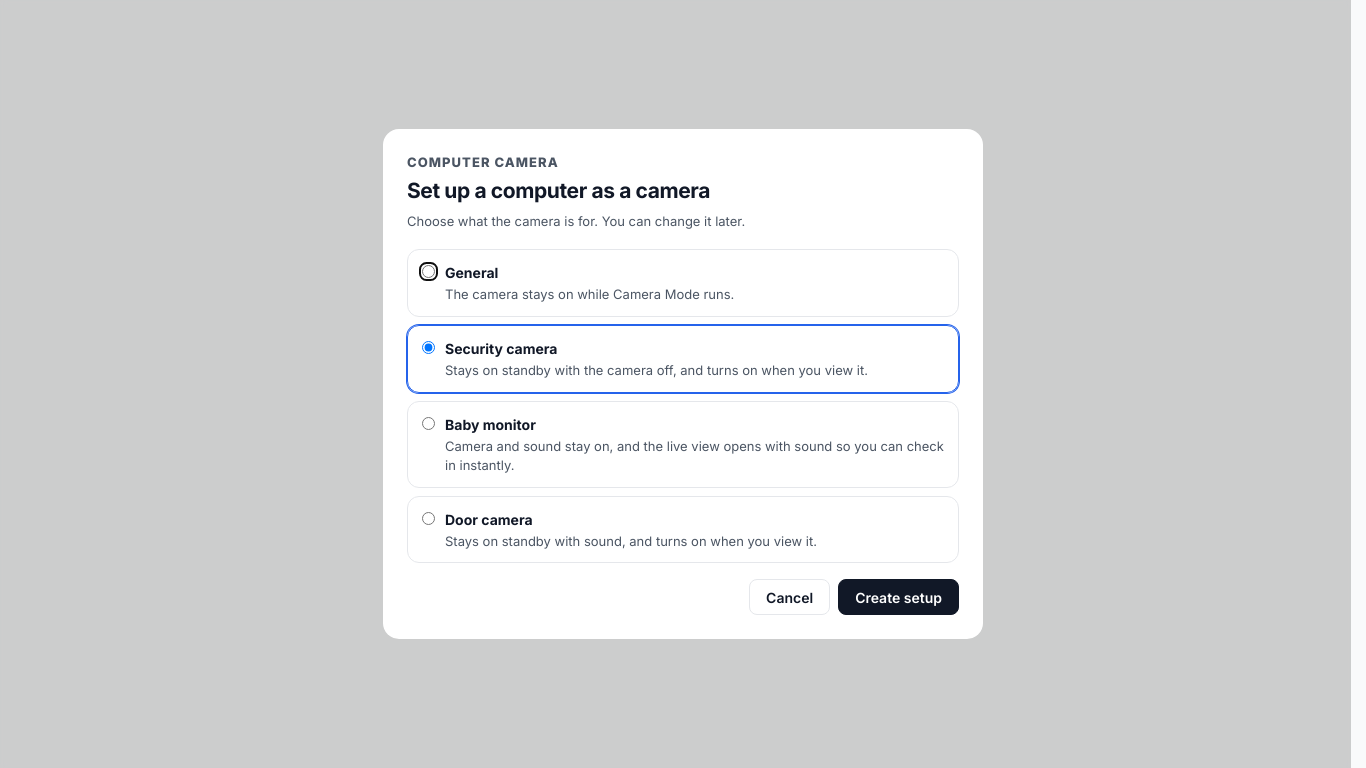
ComputerCameraSetupDialog › says plainly when no Windows build is published
What coordinates should you click on to do the following:
click the button "Create setup"
I would click on:
 (899, 597)
Its box is [838,579,959,615].
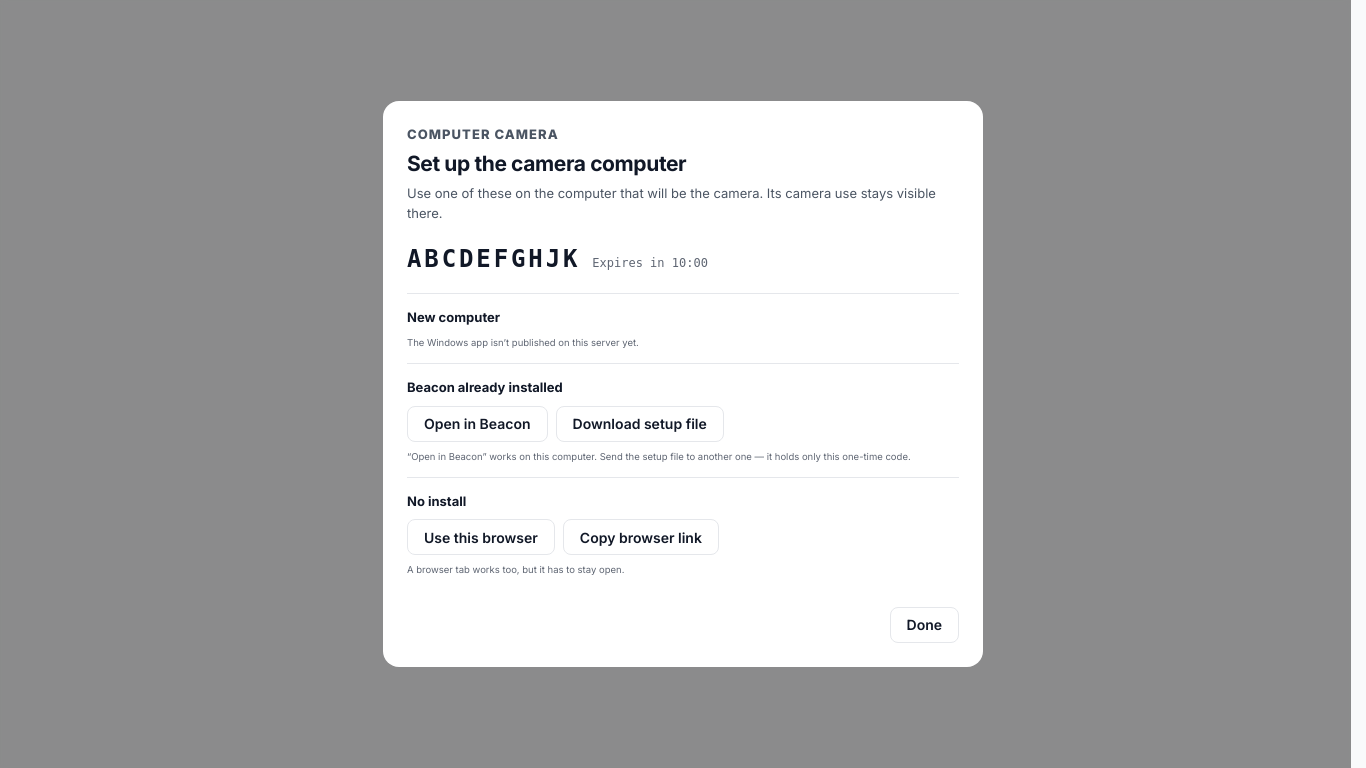
Result: the text "The Windows app isn’t published on this server yet." is shown at [407,337,639,348]
Result: the link "Open in Beacon" is shown at [407,406,548,442]
